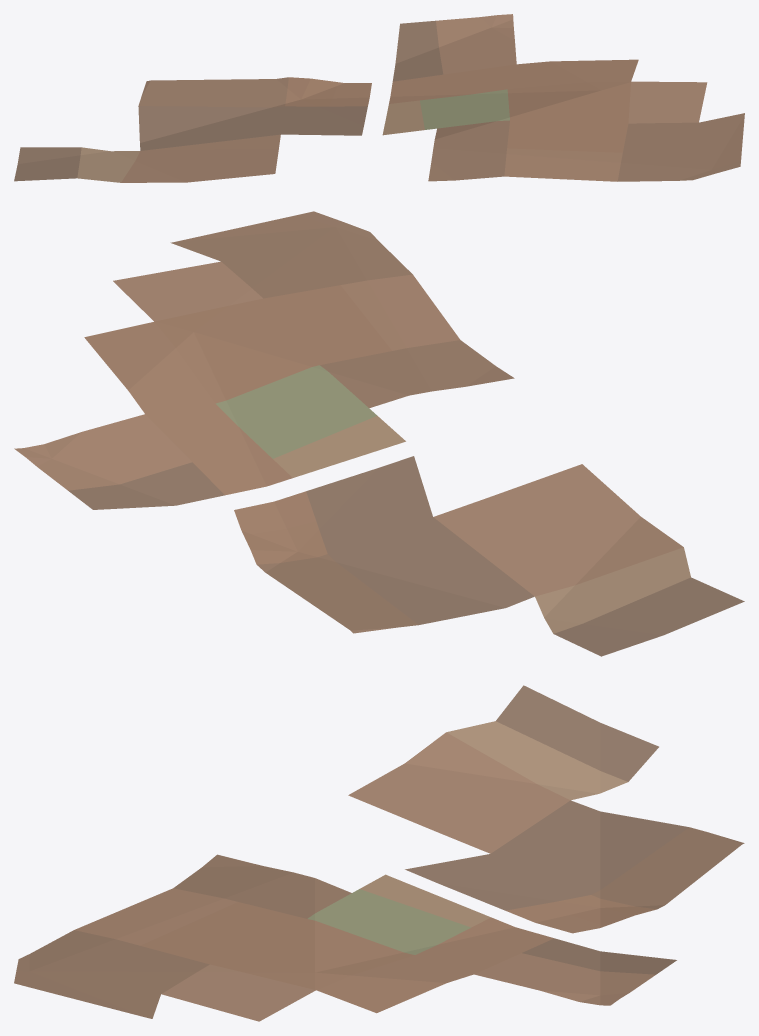
File: farm_-50_-39_soil.glb
3 renders of one model, top to bottom at view 1: azimuth 30°, elevation 25°; view 2: azimuth 150°, elevation 25°; view 3: azimuth 270°, elevation 25°, orthographic. The views are drawn at different scales.
Visible parts, largest first — view 1: geometry_0; view 2: geometry_0; view 3: geometry_0.
Part boxes in pixels (left/top/right/bottom): geometry_0: left=14, top=14, right=744, bottom=182; geometry_0: left=14, top=211, right=744, bottom=656; geometry_0: left=14, top=685, right=744, bottom=1021.
Size of the model in its own units: 249 by 20.73 by 205.
